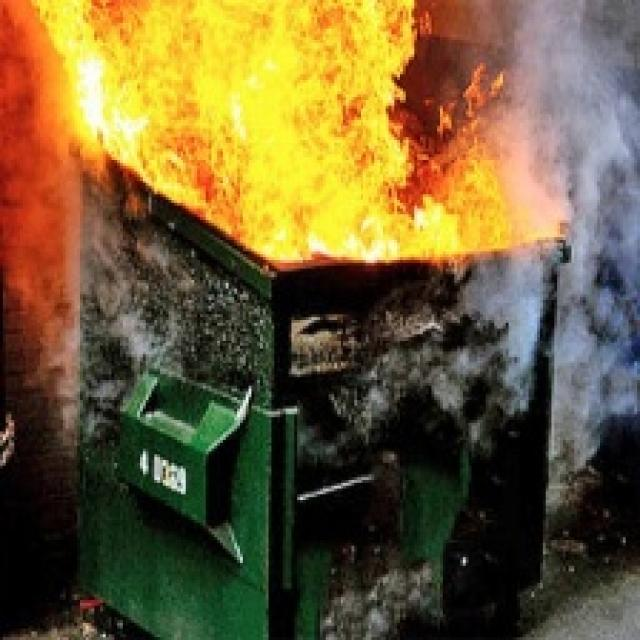Fire: (51, 0, 512, 260)
Smoke: (512, 0, 637, 437)
